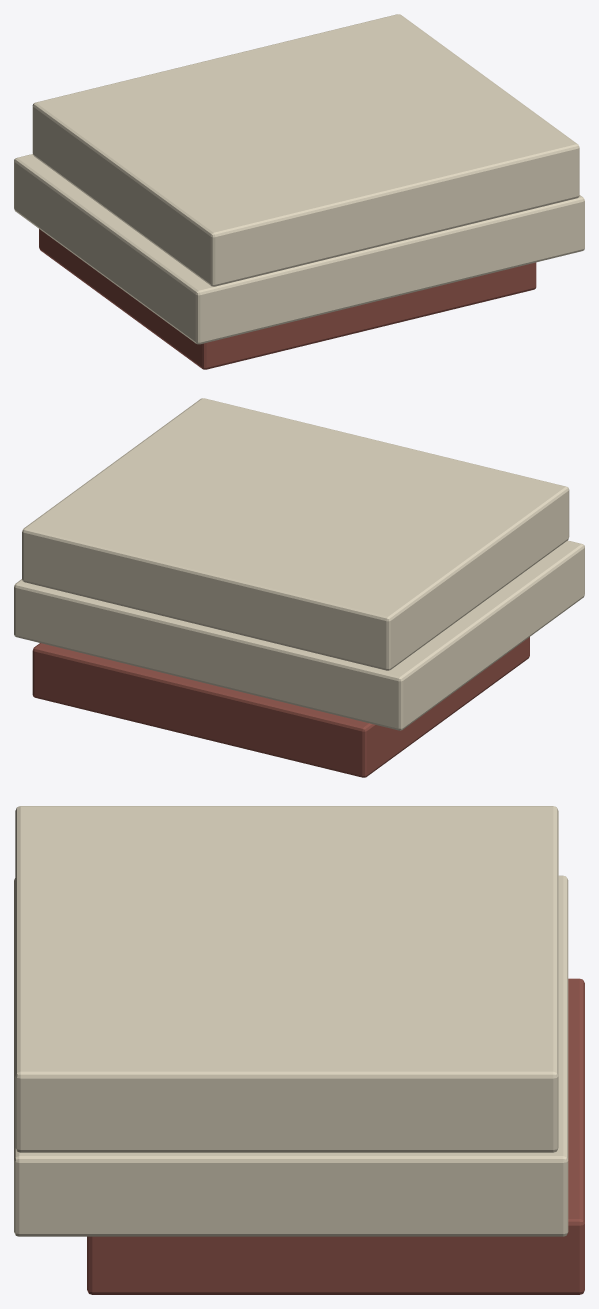
Rendered from study_books.glb.
The picture shows the model from 3 angles, top to bottom: view 1: azimuth 30°, elevation 25°; view 2: azimuth 150°, elevation 25°; view 3: azimuth 270°, elevation 25°; orthographic projection. The views are drawn at different scales.
Visible parts, largest first — view 1: study_books; view 2: study_books; view 3: study_books.
Part boxes in pixels (left/top/right/bottom): study_books: left=14, top=14, right=584, bottom=369; study_books: left=14, top=398, right=584, bottom=777; study_books: left=14, top=806, right=584, bottom=1294.
Bounding box in the file's own units: 0.2606 × 0.1013 × 0.221.
